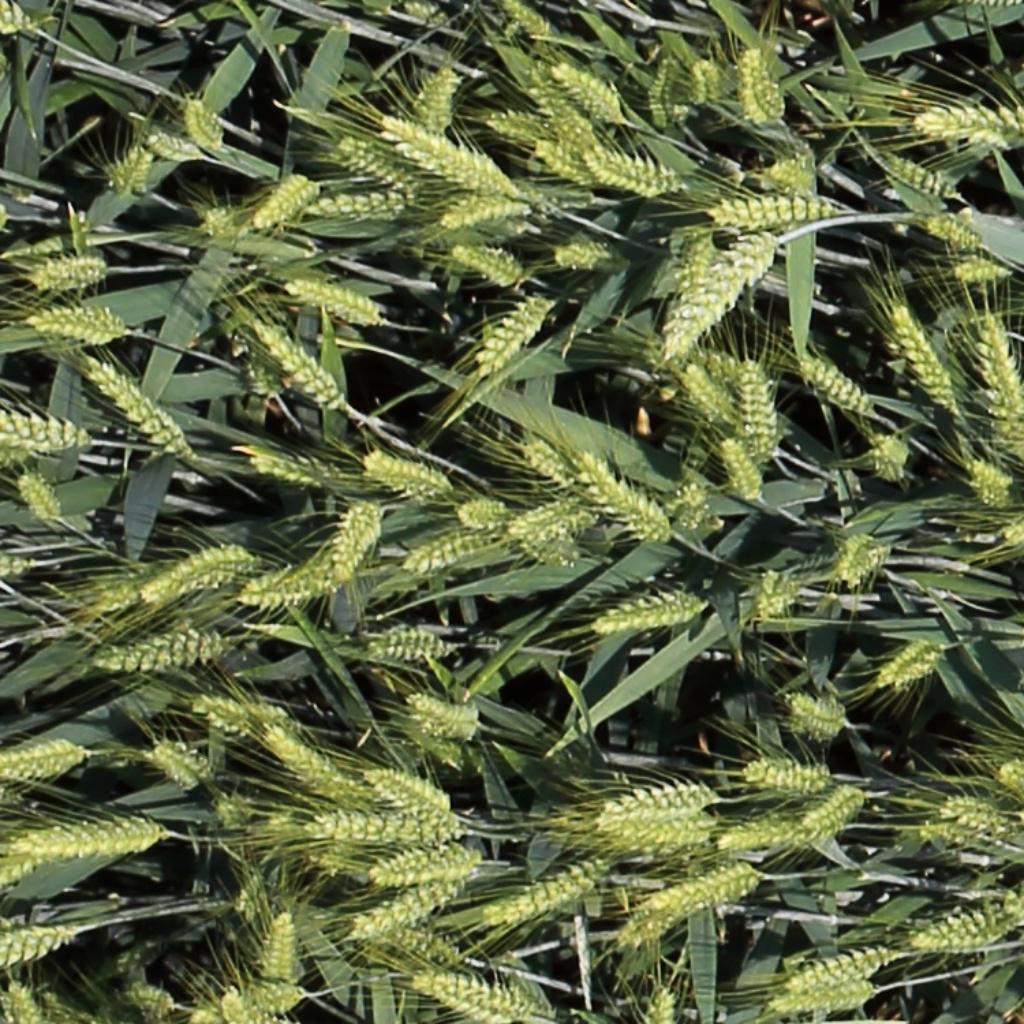0-0: (653, 230, 772, 362), (614, 861, 757, 952), (79, 357, 192, 455), (8, 802, 171, 869), (378, 115, 496, 192), (262, 730, 372, 812), (884, 297, 959, 415), (484, 858, 610, 927), (251, 318, 342, 409), (573, 451, 667, 539), (403, 965, 539, 1024), (141, 544, 267, 606), (905, 893, 1022, 955), (522, 58, 593, 157), (472, 290, 551, 376), (300, 803, 474, 841), (978, 309, 1024, 445), (356, 880, 461, 935), (98, 630, 233, 672), (915, 103, 1023, 153), (785, 944, 895, 993), (283, 278, 386, 330), (580, 147, 683, 199), (363, 842, 485, 885), (603, 775, 722, 819), (326, 496, 383, 587), (705, 193, 841, 231), (240, 170, 316, 236), (361, 761, 449, 817), (333, 135, 415, 195), (795, 354, 873, 416), (188, 987, 312, 1024), (740, 354, 781, 463), (550, 61, 622, 122), (599, 810, 720, 846), (360, 448, 452, 495), (25, 307, 131, 347), (741, 47, 789, 135), (401, 531, 503, 572), (876, 636, 946, 694), (239, 567, 331, 609), (371, 924, 460, 966), (716, 431, 764, 507), (144, 740, 215, 791), (716, 818, 829, 850), (261, 903, 302, 991), (783, 690, 858, 738), (405, 693, 481, 739), (507, 494, 578, 543), (938, 787, 1014, 832), (193, 699, 282, 737), (528, 135, 595, 185), (767, 984, 875, 1015), (679, 360, 733, 421), (672, 216, 717, 289), (883, 152, 955, 197), (5, 739, 84, 779), (362, 625, 452, 660), (591, 603, 699, 632), (177, 90, 225, 155), (0, 411, 82, 449), (419, 65, 460, 141), (1, 925, 77, 966), (248, 457, 353, 486), (13, 466, 62, 528), (103, 136, 150, 200), (802, 787, 862, 836), (920, 823, 1004, 857), (447, 244, 520, 282), (524, 440, 580, 489), (28, 256, 109, 289), (81, 581, 149, 620), (436, 196, 528, 223), (744, 760, 829, 789), (834, 543, 891, 585), (753, 567, 799, 619), (647, 51, 675, 133), (215, 984, 271, 1024), (869, 428, 910, 480), (924, 216, 981, 253), (452, 496, 512, 530), (483, 111, 551, 140), (674, 474, 711, 526), (203, 197, 256, 233), (963, 457, 1014, 494), (499, 0, 548, 38), (307, 195, 404, 214), (141, 136, 203, 165), (769, 157, 816, 195), (2, 974, 39, 1022), (549, 241, 614, 268), (122, 985, 173, 1019), (953, 255, 1014, 283), (688, 51, 716, 110), (648, 978, 675, 1024), (1000, 517, 1024, 544)
